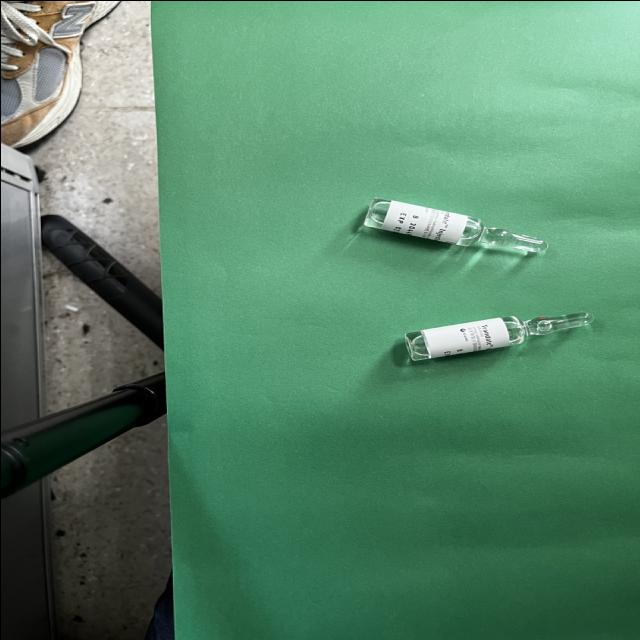Ampoules: (363, 197, 546, 255), (403, 312, 591, 360)
